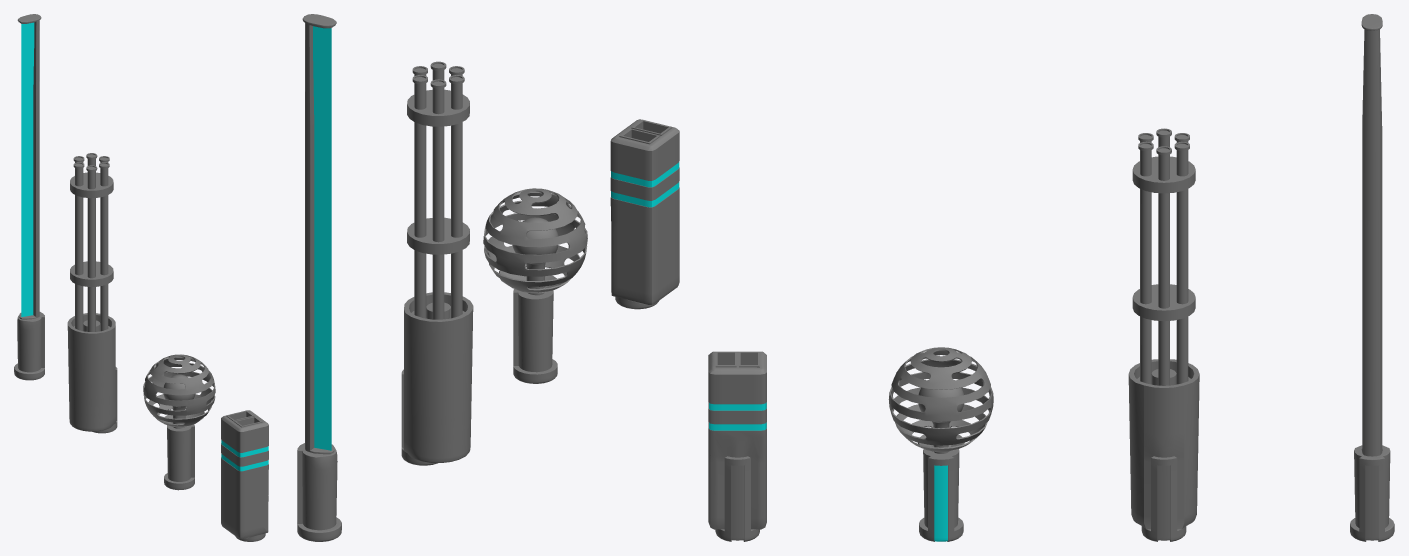
The picture shows the model from 3 angles, left to right: view 1: azimuth 30°, elevation 25°; view 2: azimuth 150°, elevation 25°; view 3: azimuth 270°, elevation 25°; orthographic projection. The views are drawn at different scales.
Visible parts, largest first — view 1: Body1, Launcher, Base, Hilt, Blade, Barrel2, Barrel3, Barrel1, Holder1, Holder2; view 2: Body1, Launcher, Base, Hilt, Blade, Barrel5, Barrel6, Barrel1, Holder1, Holder2, HLight1, HLight2; view 3: Hilt, Base, Body1, Launcher, Barrel6, Barrel4, Barrel3, Holder1, Holder2, Light.
Boxes of the visible parts, <box> form: Body1: <box>143,354,215,490</box>; Launcher: <box>221,410,268,541</box>; Base: <box>67,313,117,433</box>; Hilt: <box>14,14,44,380</box>; Blade: <box>21,22,34,316</box>; Barrel2: <box>86,165,97,331</box>; Barrel3: <box>99,162,109,331</box>; Barrel1: <box>73,162,84,330</box>; Holder1: <box>70,172,113,198</box>; Holder2: <box>70,261,113,286</box>; Body1: <box>483,188,587,383</box>; Launcher: <box>610,119,679,309</box>; Base: <box>401,292,473,465</box>; Hilt: <box>297,14,341,541</box>; Blade: <box>313,26,331,450</box>; Barrel5: <box>430,79,446,319</box>; Barrel6: <box>412,75,427,318</box>; Barrel1: <box>449,75,464,318</box>; Holder1: <box>407,89,469,126</box>; Holder2: <box>407,217,469,254</box>; HLight1: <box>611,182,679,207</box>; HLight2: <box>611,162,679,187</box>; Hilt: <box>1350,14,1394,541</box>; Base: <box>1128,359,1199,541</box>; Body1: <box>888,347,993,541</box>; Launcher: <box>708,351,766,541</box>; Barrel6: <box>1174,141,1189,384</box>; Barrel4: <box>1156,146,1171,385</box>; Barrel3: <box>1138,141,1153,384</box>; Holder1: <box>1132,156,1195,193</box>; Holder2: <box>1132,284,1195,321</box>; Light: <box>934,465,947,541</box>.
Bounding box in the file's own units: 0.306 × 1.65 × 2.
